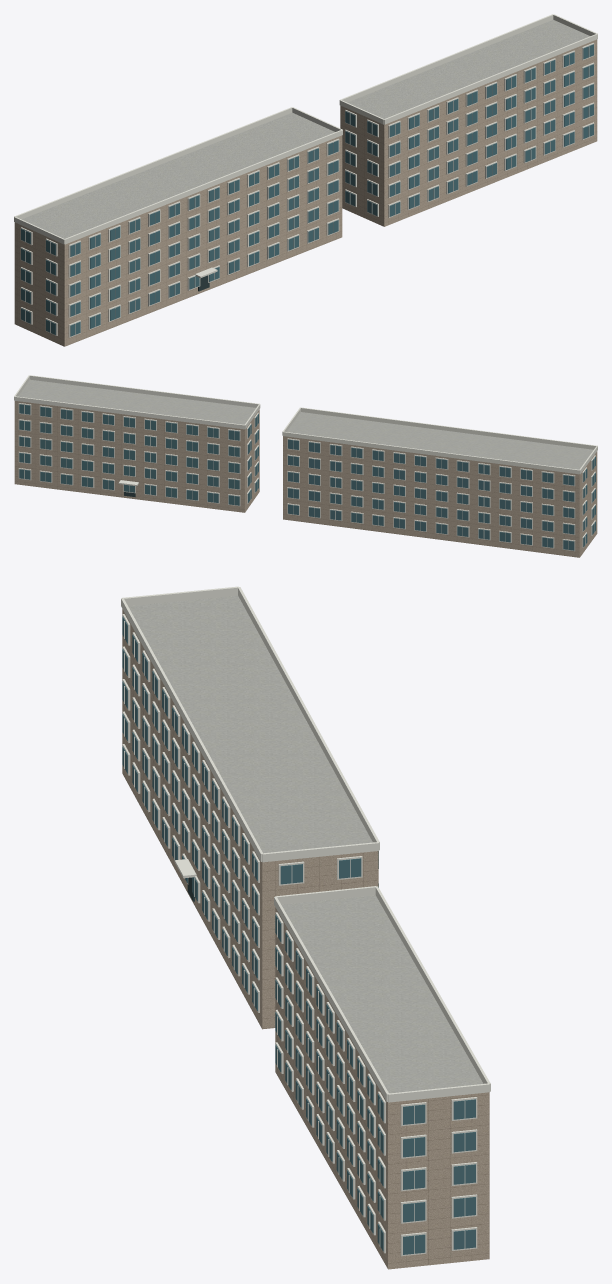
File: chunk-n2-p0.glb
3 views of the same model, one above another, from view 1: azimuth 30°, elevation 25°; view 2: azimuth 150°, elevation 25°; view 3: azimuth 270°, elevation 25° (orthographic). The views are drawn at different scales.
Parts seen in each view (by area): view 1: chunk-n2-p0; view 2: chunk-n2-p0; view 3: chunk-n2-p0.
Boxes of the visible parts, left/top/right/bottom form: chunk-n2-p0: left=14, top=14, right=597, bottom=346; chunk-n2-p0: left=14, top=375, right=597, bottom=557; chunk-n2-p0: left=121, top=586, right=490, bottom=1269.
Bounding box in the file's own units: 109 × 18.44 × 34.02.
5 materials, 2 textured.
